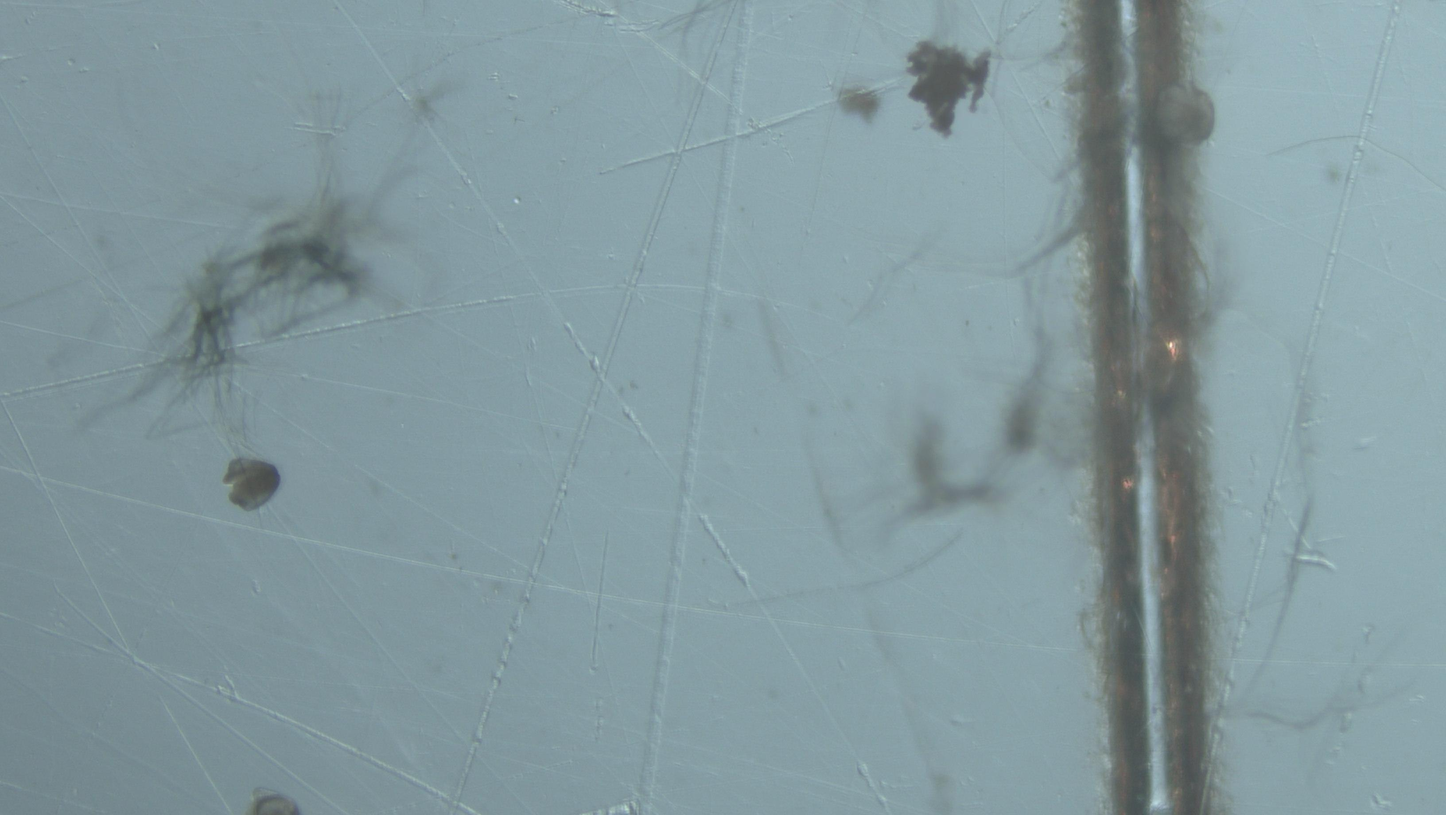live: (222, 457, 280, 512)
